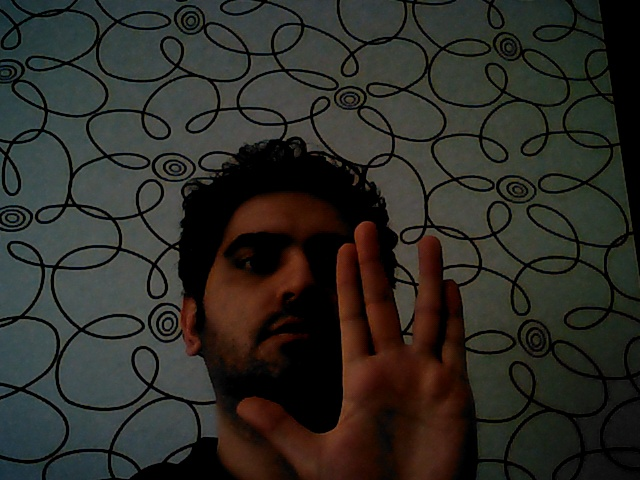LiveLong: (235, 220, 482, 480)
